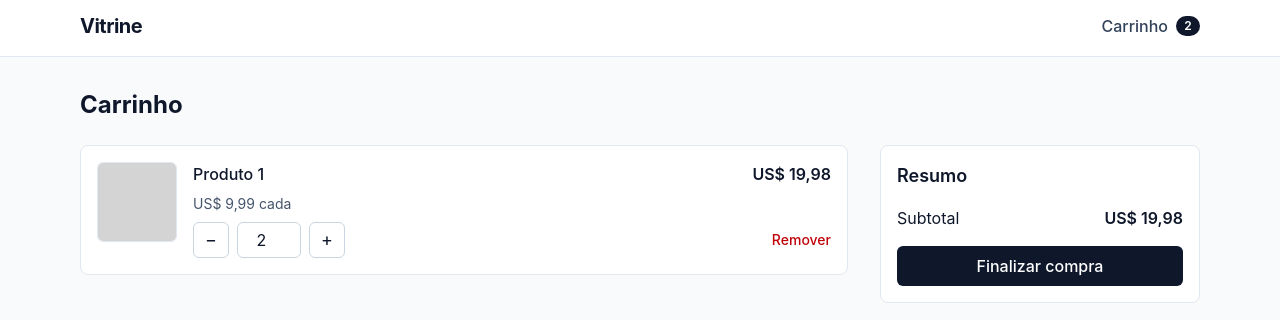
it: CartPage › apagar o campo de quantidade não remove o item
The width and height of the screenshot is (1280, 320).
Clear the number field named "Quantidade de Produto 1" at point(269, 240), box [237,222,301,258]
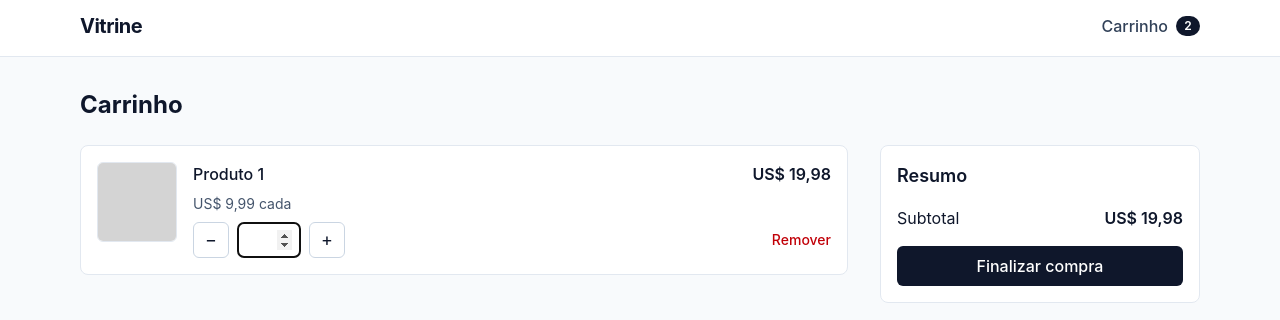
Press Tab
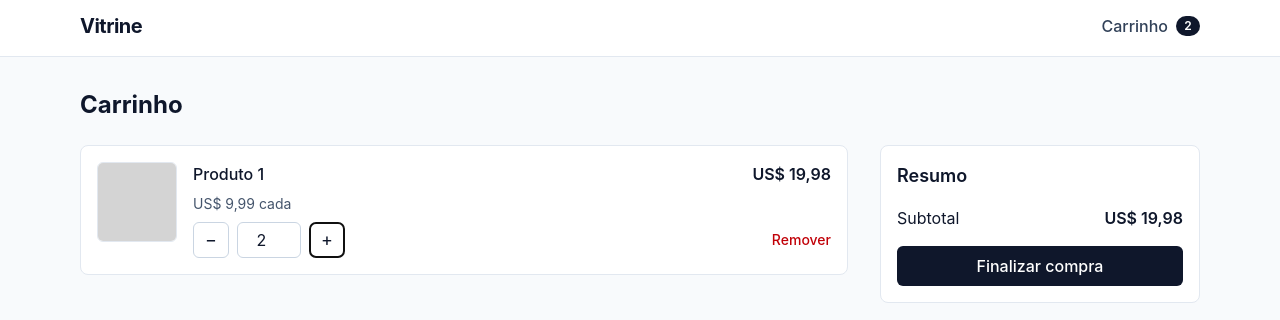
Result: the number field named "Quantidade de Produto 1" holds "2" at [237,222,301,258]
